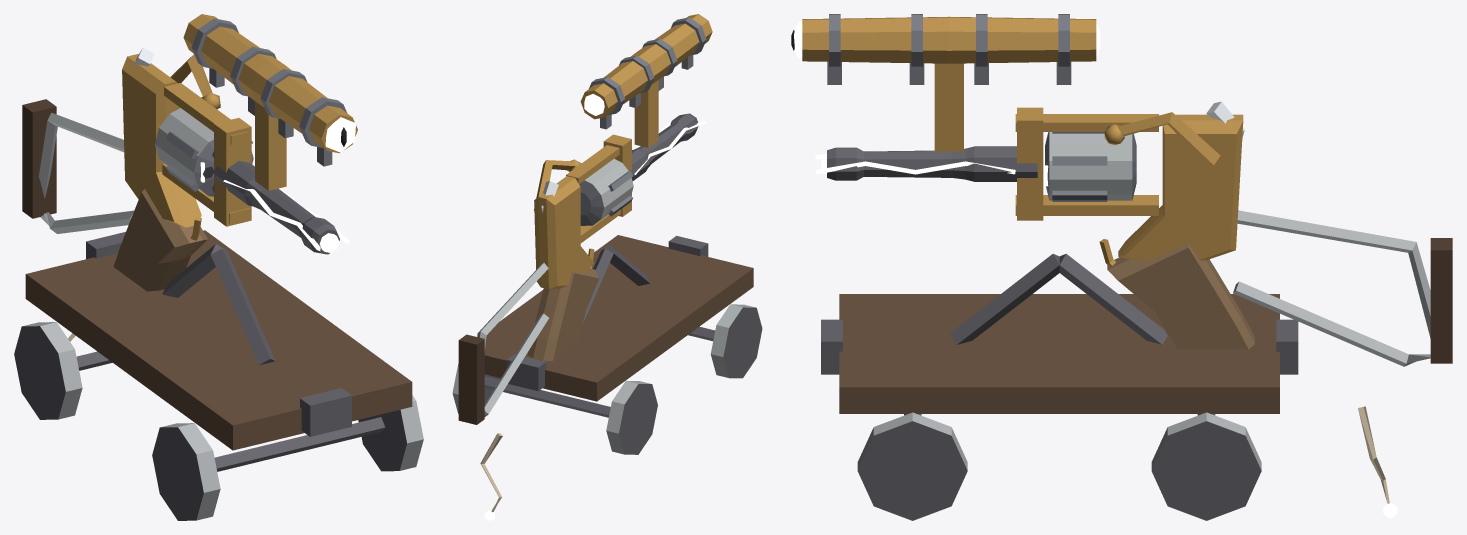
The model's file is gun-car-gun.glb.
3 renders of one model, left to right at view 1: azimuth 30°, elevation 25°; view 2: azimuth 150°, elevation 25°; view 3: azimuth 270°, elevation 25°, orthographic. The views are drawn at different scales.
Parts seen in each view (by area): view 1: gun-car-gun, blink_lens, pulse_vein; view 2: gun-car-gun, sway_sinew; view 3: gun-car-gun, pulse_vein, sway_sinew.
Boxes of the visible parts, x1=… form: gun-car-gun: x1=14, y1=14, x2=423, y2=520; blink_lens: x1=325, y1=117, x2=355, y2=152; pulse_vein: x1=223, y1=180, x2=349, y2=250; gun-car-gun: x1=452, y1=14, x2=762, y2=454; sway_sinew: x1=480, y1=433, x2=502, y2=520; gun-car-gun: x1=802, y1=14, x2=1452, y2=520; pulse_vein: x1=815, y1=150, x2=1015, y2=174; sway_sinew: x1=1358, y1=406, x2=1397, y2=517.
Bounding box in the file's own units: 0.368 × 0.7557 × 0.9003.
